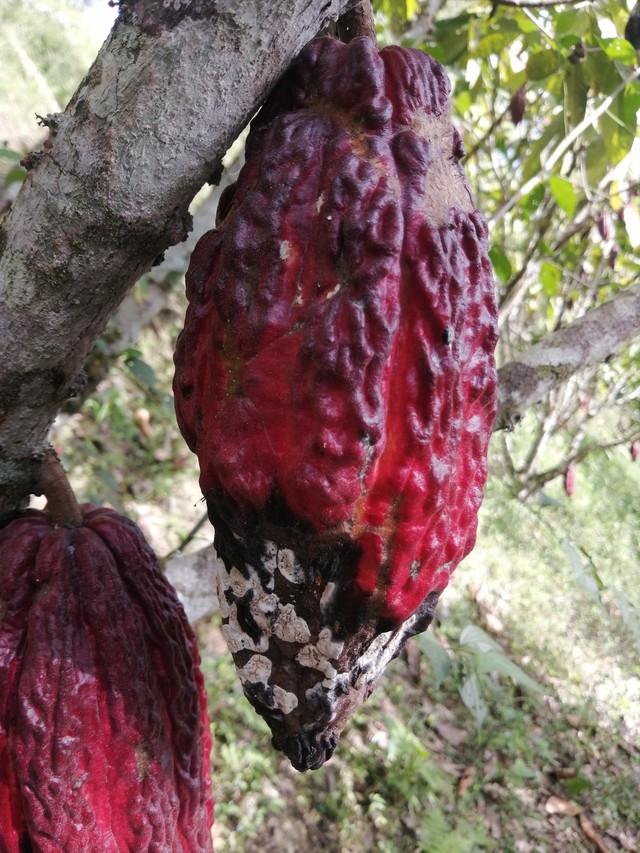moniliophthora roreri: (154, 16, 525, 785)
